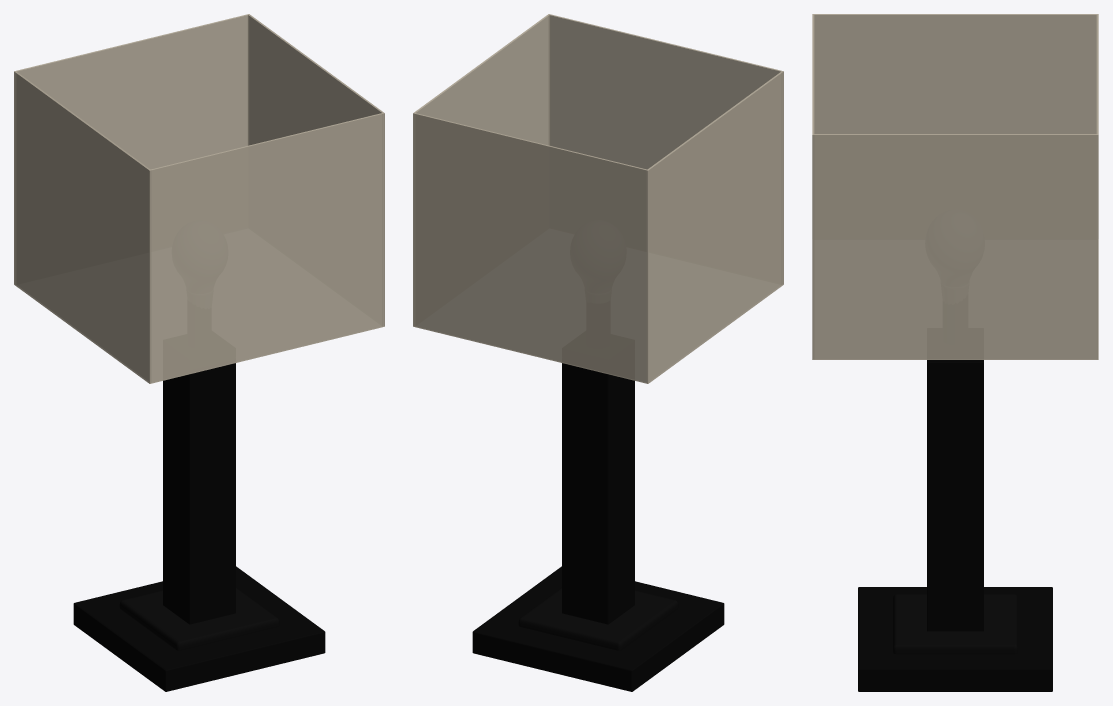
File: TableLampv2.FBX
3 views of the same model, side by side, from view 1: azimuth 30°, elevation 25°; view 2: azimuth 150°, elevation 25°; view 3: azimuth 270°, elevation 25° (orthographic). The views are drawn at different scales.
Parts seen in each view (by area): view 1: TableLamp; view 2: TableLamp; view 3: TableLamp.
Boxes of the visible parts, bbox=[...] form: TableLamp: bbox=[14, 14, 384, 691]; TableLamp: bbox=[413, 14, 783, 691]; TableLamp: bbox=[812, 14, 1098, 691].
Size of the model in its own units: 10.56 by 23.45 by 10.56.
